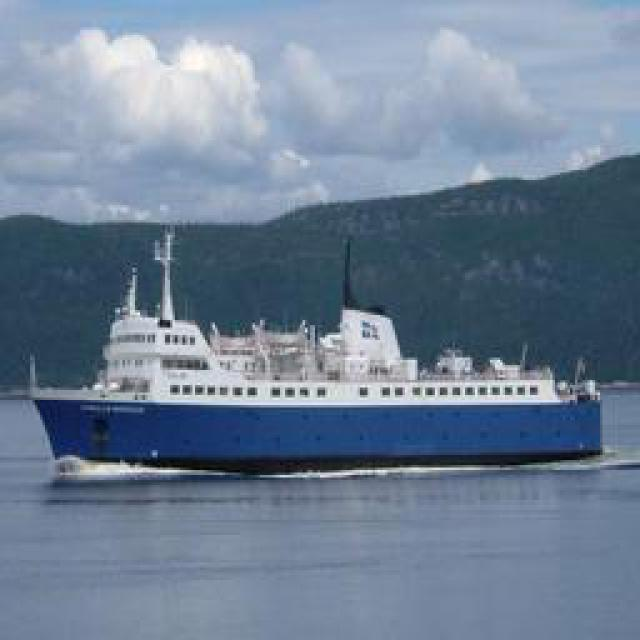Ship: (18, 223, 616, 471)
